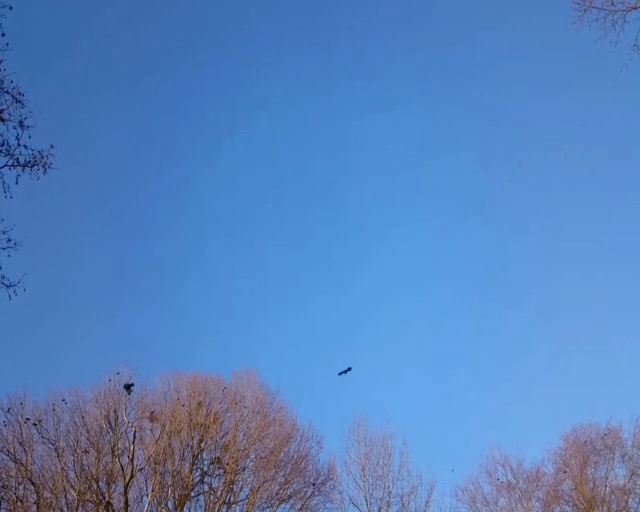BIRD: (337, 366, 352, 375)
